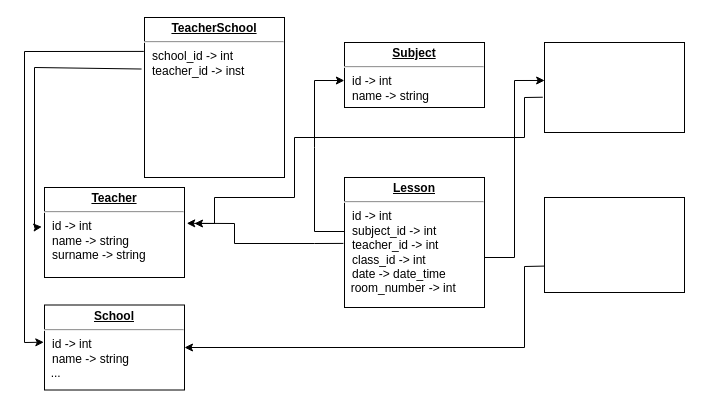
Image size: 702x408. Some labels were removed from this diagram. Here are the shapes that lost their labels. From the top down, the box of each, then its label:
(544, 42, 684, 132): Class id -> int teacher_id -> int grade -> int
(544, 196, 684, 292): Student id -> int person_id -> int school_id -> int
